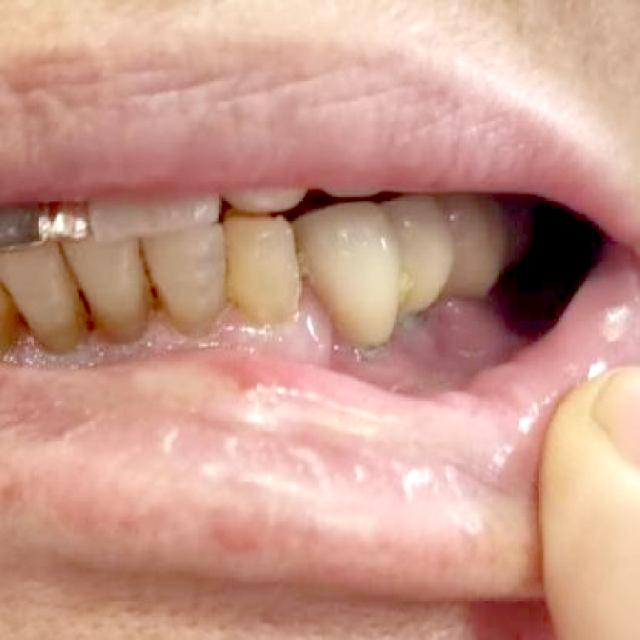Plaque: (313, 297, 509, 381)
